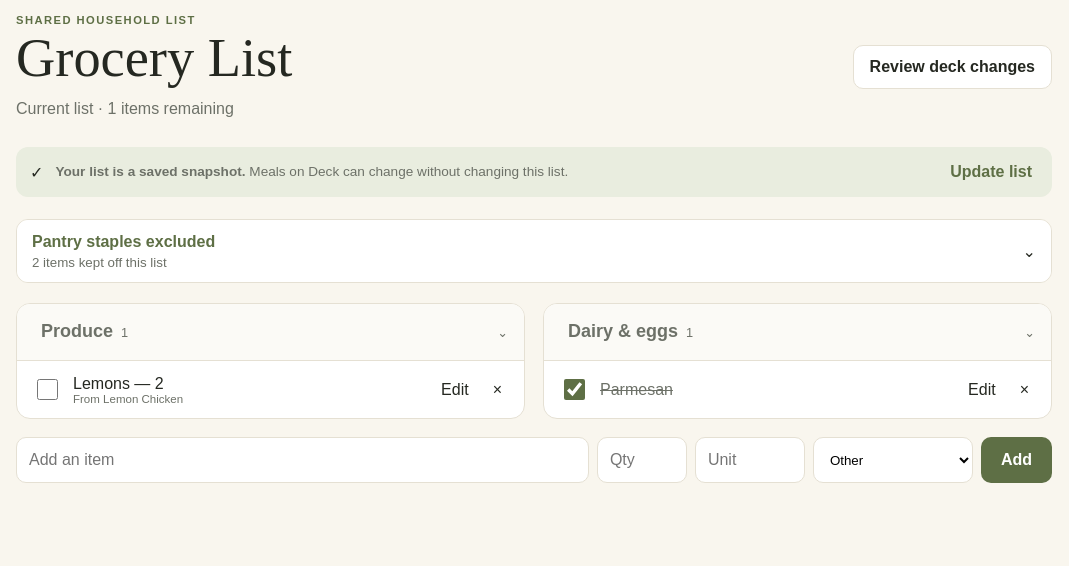
Test: Groceries › keeps the current list visible when preview generation fails
Click the button "Review deck changes" at (952, 67), box [853, 45, 1052, 89]
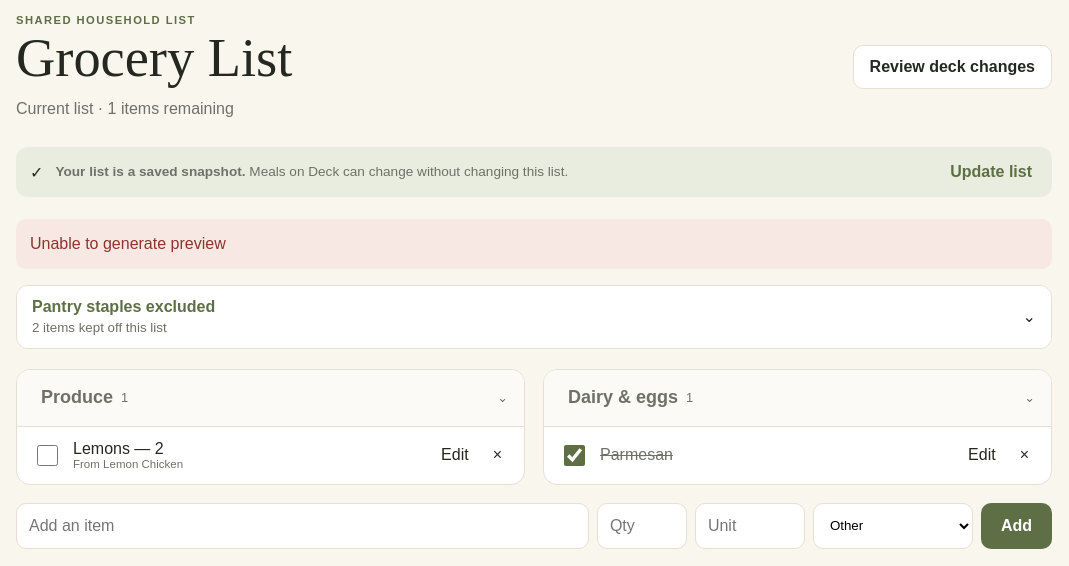
Expected: the text "Lemons — 2" is shown, [73, 440, 164, 457]
Expected: the message reads "Unable to generate preview", [30, 235, 226, 252]
